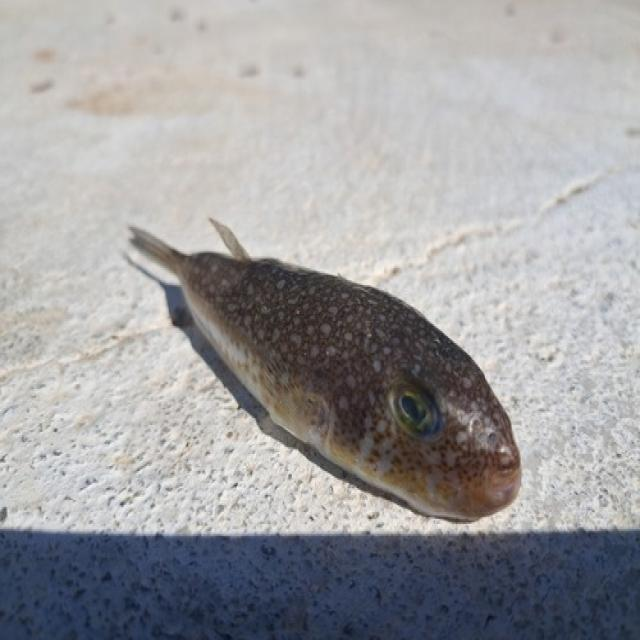Balik: (132, 221, 520, 520)
